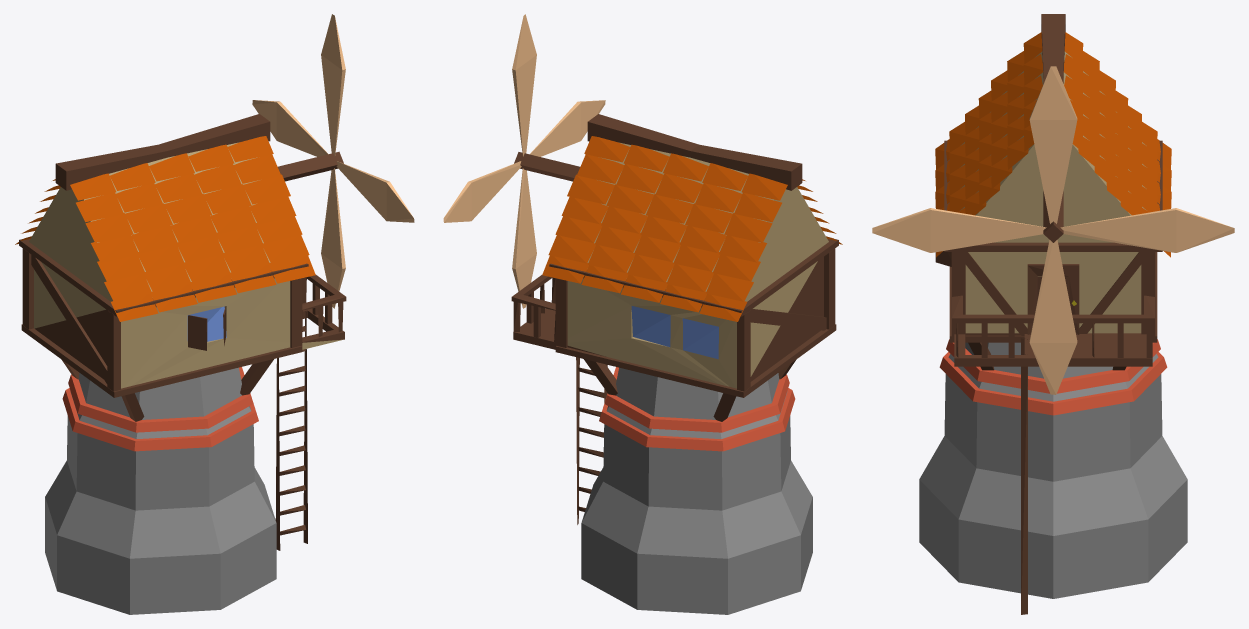
File: windMill LOD1.fbx
The picture shows the model from 3 angles, left to right: view 1: azimuth 30°, elevation 25°; view 2: azimuth 150°, elevation 25°; view 3: azimuth 270°, elevation 25°; orthographic projection. The views are drawn at different scales.
Parts seen in each view (by area): view 1: Windmill_Cube.002; view 2: Windmill_Cube.002; view 3: Windmill_Cube.002.
Boxes of the visible parts, x1,y1,x2,y2 form: Windmill_Cube.002: (15,14,414,614); Windmill_Cube.002: (443,14,842,614); Windmill_Cube.002: (872,14,1234,614).
Size of the model in its own units: 1361 by 2345 by 1350.
